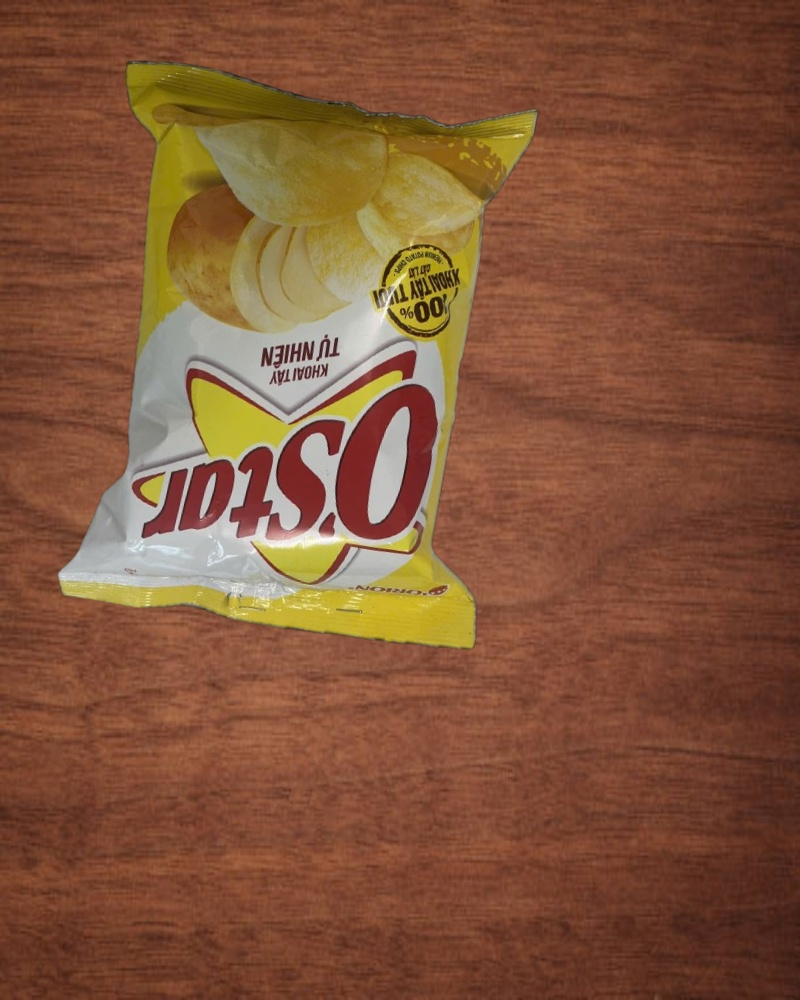Snack cua: (41, 46, 565, 661)
